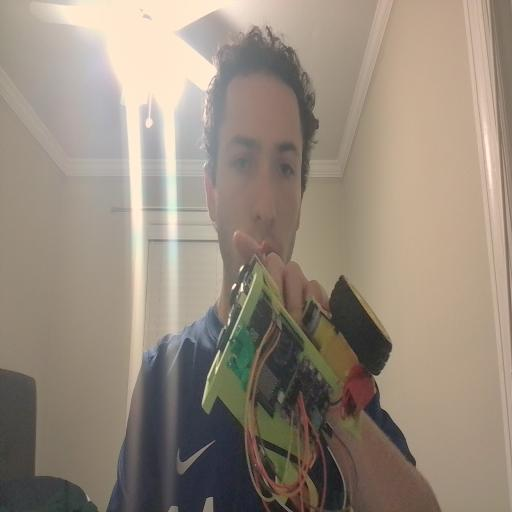green LEGO minifig: (227, 322, 258, 397)
